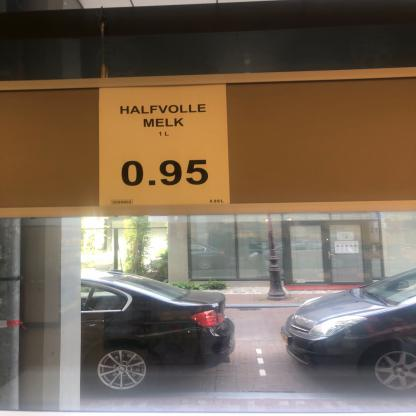prtg: (99, 85, 232, 208)
